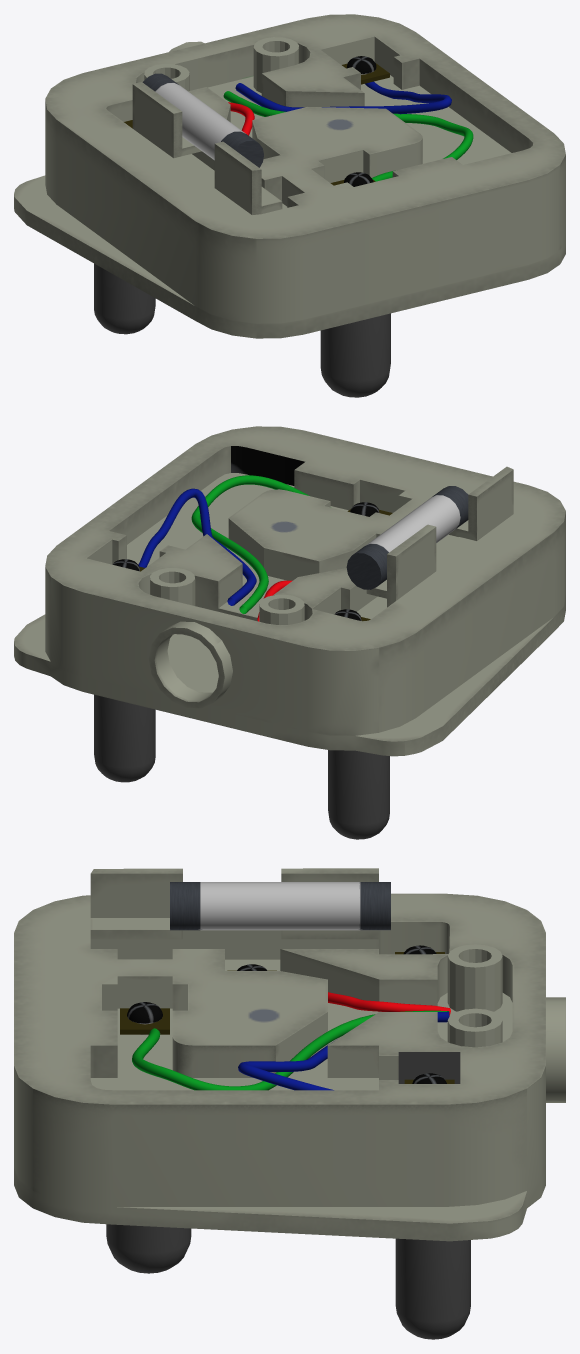
The model's file is SocketPlug_C.fbx.
3 renders of one model, top to bottom at view 1: azimuth 30°, elevation 25°; view 2: azimuth 150°, elevation 25°; view 3: azimuth 270°, elevation 25°, orthographic. The views are drawn at different scales.
Visible parts, largest first — view 1: SocketPlug_C; view 2: SocketPlug_C; view 3: SocketPlug_C.
Part boxes in pixels (x1,y1,x2,y2): SocketPlug_C: (14, 14, 565, 397); SocketPlug_C: (14, 426, 565, 839); SocketPlug_C: (14, 868, 565, 1339).
Bounding box in the file's own units: 21.04 × 13.02 × 20.09.
Materials: 1 (1 with a texture image).
